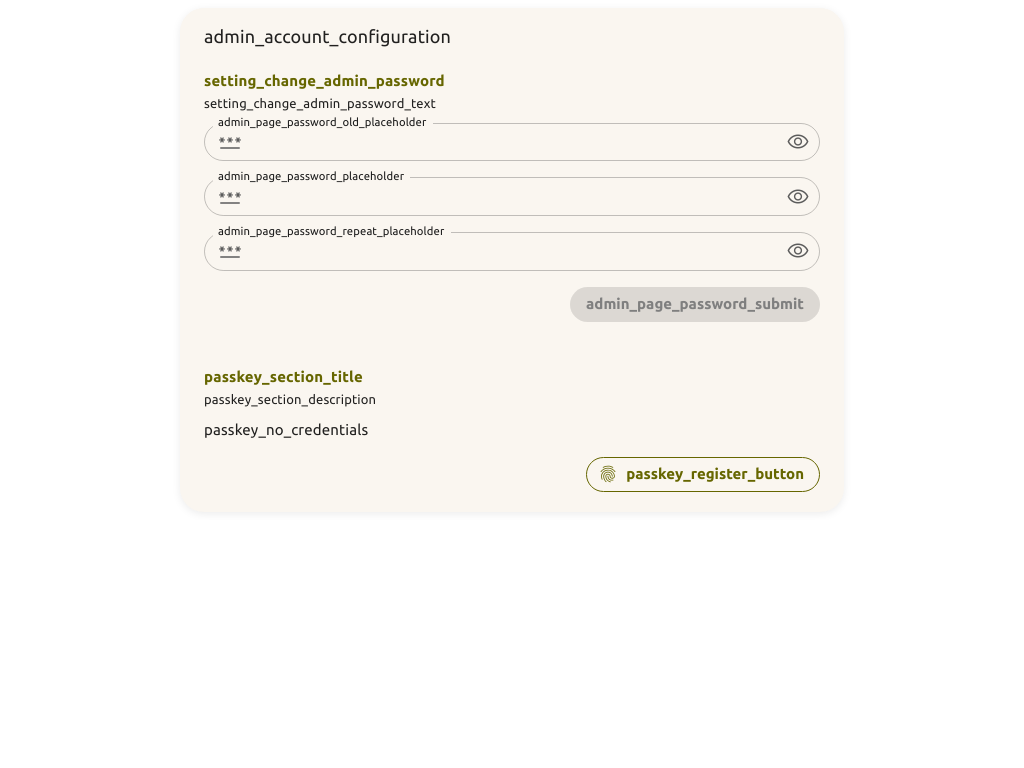
Scenario: AuthMethods › uses the standard dialog cancel label when registering an admin passkey
Click the button "passkey_register_button".
click(703, 474)  # box left=586, top=457, right=820, bottom=492
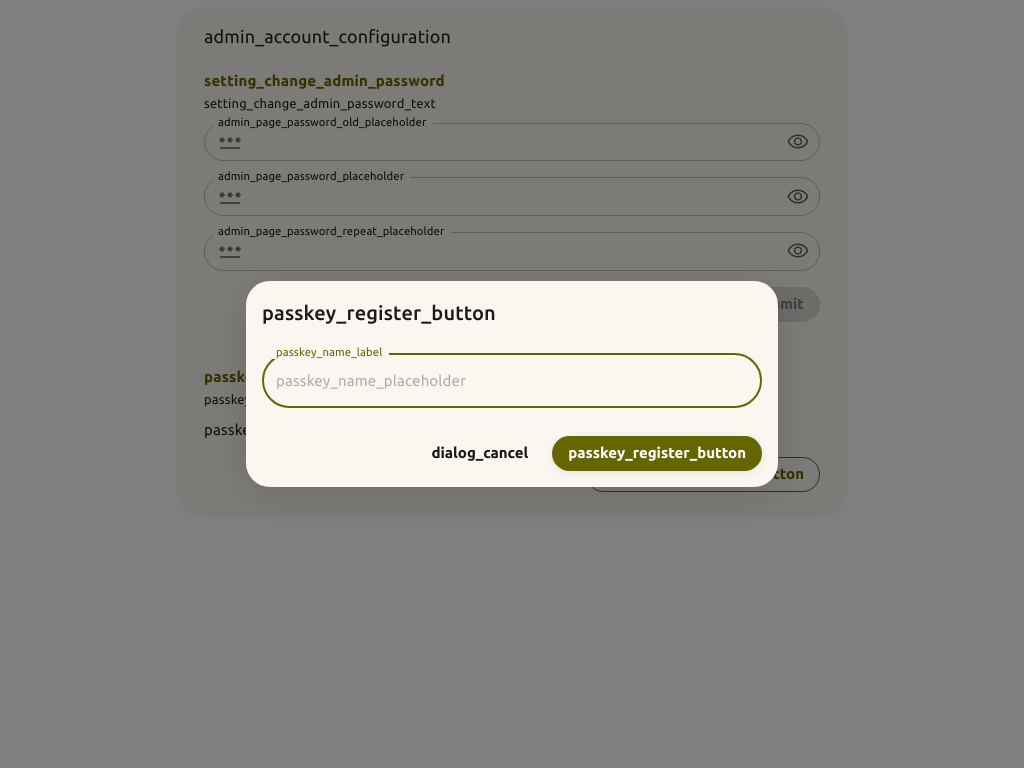
Expected: the button "dialog_cancel" is shown, left=415, top=436, right=544, bottom=471
